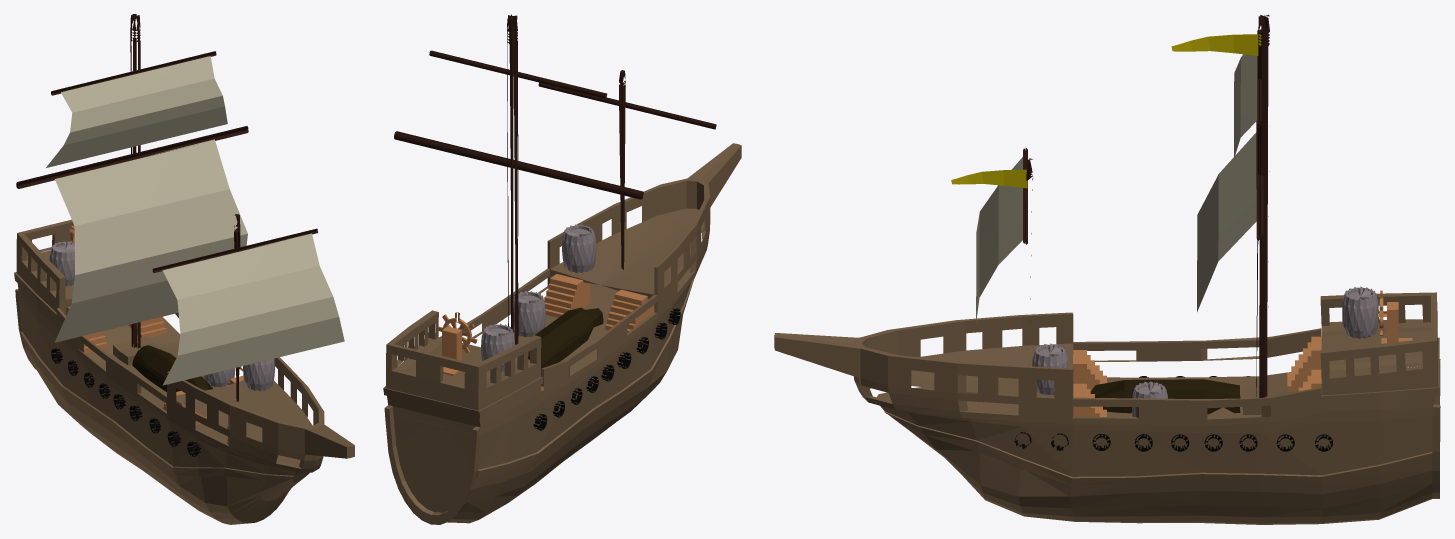
File: Galleon.glb
The picture shows the model from 3 angles, left to right: view 1: azimuth 30°, elevation 25°; view 2: azimuth 150°, elevation 25°; view 3: azimuth 270°, elevation 25°; orthographic projection. The views are drawn at different scales.
Visible parts, largest first — view 1: Sphere.002, sail_big.001_Plane.004, sail_big_Plane.003, sail_big.002_Plane.005, Cylinder.024_Cylinder.004, Sphere.003, Circle.020_Circle.025, Cylinder.000, Cylinder.028_Cylinder.017, Cylinder.001, Cylinder.025_Cylinder.005, Cube.001_Cube.005 (+1 smaller); view 2: Sphere.002, Circle.020_Circle.025, Sphere.003, Cylinder.024_Cylinder.004, Cube.003_Cube.007, Cylinder.000, Cylinder.027_Cylinder.007, Cube.002_Cube.006, Cylinder.025_Cylinder.005, Circle.004, Cylinder.001, Cylinder.028_Cylinder.017 (+2 smaller); view 3: Sphere.002, sail_big.001_Plane.004, sail_big_Plane.003, Circle.020_Circle.025, Sphere.003, sail_big.002_Plane.005, Cylinder.028_Cylinder.017, flag_Plane.006, Cube_Cube.004, Cylinder.000, flag.001_Plane.007, Cube.002_Cube.006.
Boxes of the visible parts, x1,y1,x2,y2 form: Sphere.002: [14, 219, 354, 524]; sail_big.001_Plane.004: [54, 139, 247, 342]; sail_big_Plane.003: [162, 233, 344, 385]; sail_big.002_Plane.005: [46, 56, 227, 167]; Cylinder.024_Cylinder.004: [16, 126, 248, 188]; Sphere.003: [132, 345, 212, 391]; Circle.020_Circle.025: [130, 14, 140, 348]; Cylinder.000: [243, 358, 274, 391]; Cylinder.028_Cylinder.017: [49, 241, 74, 286]; Cylinder.001: [152, 228, 317, 272]; Cylinder.025_Cylinder.005: [51, 51, 216, 95]; Cube.001_Cube.005: [128, 316, 166, 337]; Sphere.002: [383, 143, 741, 524]; Circle.020_Circle.025: [507, 14, 518, 344]; Sphere.003: [528, 307, 603, 368]; Cylinder.024_Cylinder.004: [394, 131, 643, 199]; Cube.003_Cube.007: [544, 274, 590, 317]; Cylinder.000: [562, 224, 596, 273]; Cylinder.027_Cylinder.007: [513, 291, 545, 337]; Cube.002_Cube.006: [605, 289, 654, 332]; Cylinder.025_Cylinder.005: [429, 50, 607, 98]; Circle.004: [619, 70, 625, 269]; Cylinder.001: [538, 82, 716, 129]; Cylinder.028_Cylinder.017: [481, 323, 515, 372]; Sphere.002: [774, 292, 1440, 524]; sail_big.001_Plane.004: [1197, 132, 1256, 311]; sail_big_Plane.003: [976, 157, 1022, 322]; Circle.020_Circle.025: [1256, 14, 1269, 397]; Sphere.003: [1090, 379, 1240, 414]; sail_big.002_Plane.005: [1234, 54, 1257, 158]; Cylinder.028_Cylinder.017: [1342, 286, 1378, 338]; flag_Plane.006: [1171, 34, 1261, 55]; Cube_Cube.004: [1287, 336, 1321, 391]; Cylinder.000: [1032, 343, 1068, 394]; flag.001_Plane.007: [951, 169, 1027, 188]; Cube.002_Cube.006: [1073, 350, 1106, 390].
Bounding box in the file's own units: 1.55 × 2.83 × 3.38.
